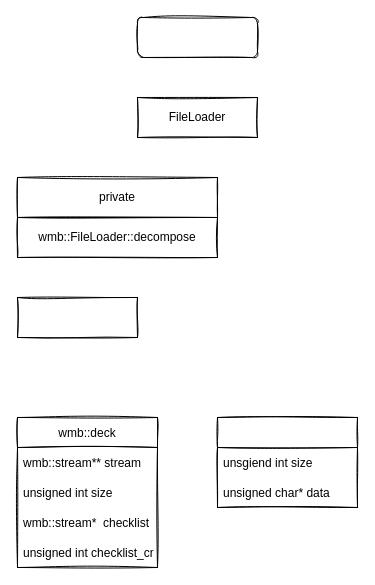
Some shapes in this 375 by 585 pixel diagram are drawn without their labels. The shapes that lost their labels are listed below. From the top down, each one's box as (x1, y1, x2, y2) in pixels, then its label:
(136, 16, 258, 58): Program begining
(216, 416, 358, 508): wmb::stream
